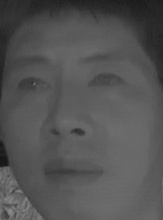eye: (85, 68, 125, 95), (13, 74, 51, 98)
mouth: (42, 150, 104, 186)
